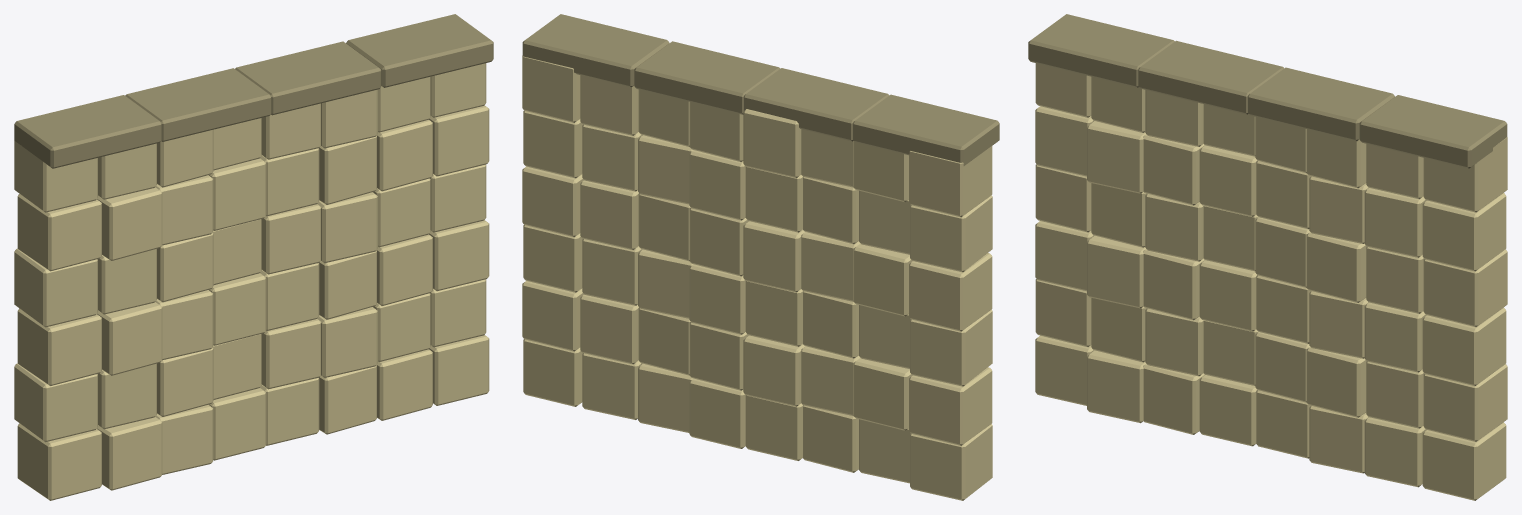
File: Ground.fbx
3 renders of one model, left to right at view 1: azimuth 30°, elevation 25°; view 2: azimuth 150°, elevation 25°; view 3: azimuth 330°, elevation 25°, orthographic.
Visible parts, largest first — view 1: Cube; view 2: Cube; view 3: Cube.
Boxes of the visible parts, x1,y1,x2,y2 form: Cube: [14, 14, 493, 500]; Cube: [522, 14, 999, 500]; Cube: [1028, 14, 1507, 500].
Bounding box in the file's own units: 1620 × 1247 × 259.
